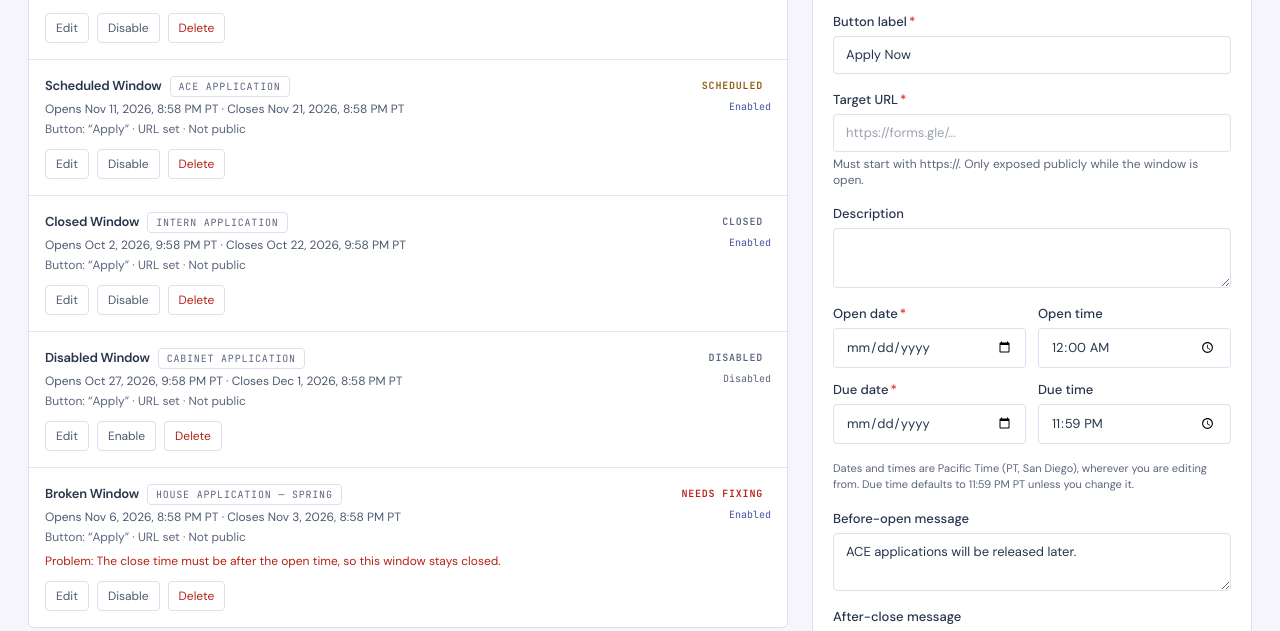
Test: public preview › never gives a closed window a link
(page scrolled)
Click the button "Edit" below "Oct 2, 2026, 9:58 PM PT" at (67, 300), box [45,285,89,315]
(page scrolled)
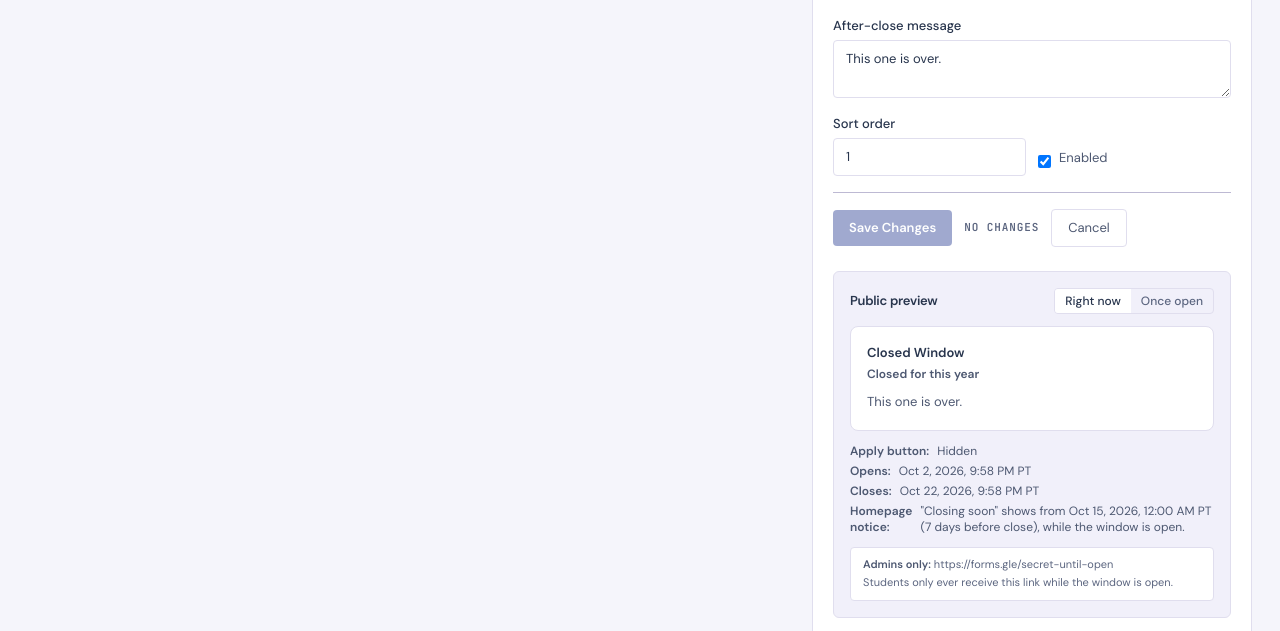
Expected: the element with test id "application-preview-card" does not show "https://forms.gle/secret-until-open"
Expected: the text "This one is over." is shown, [867,393,962,410]
